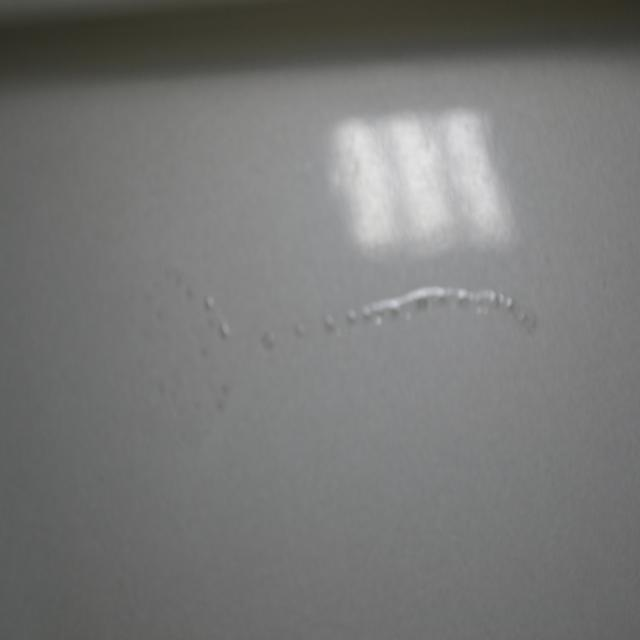runs: (145, 269, 535, 448)
